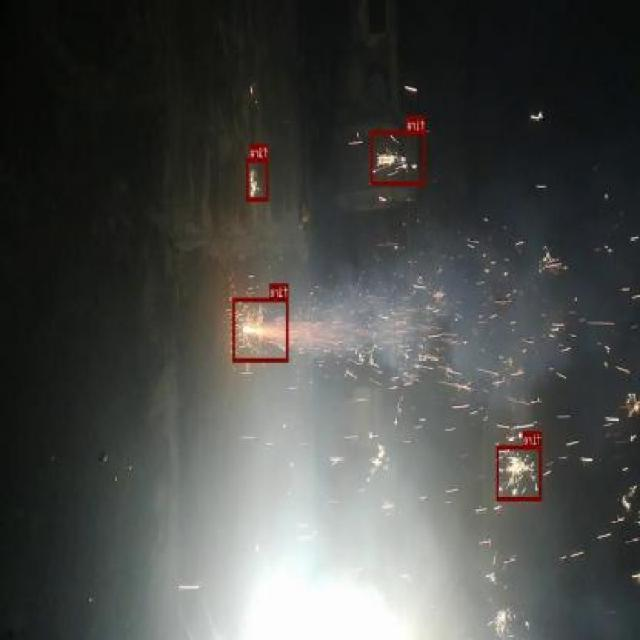Fire: (233, 296, 289, 362), (372, 130, 426, 184), (498, 444, 542, 500), (246, 157, 268, 200)
